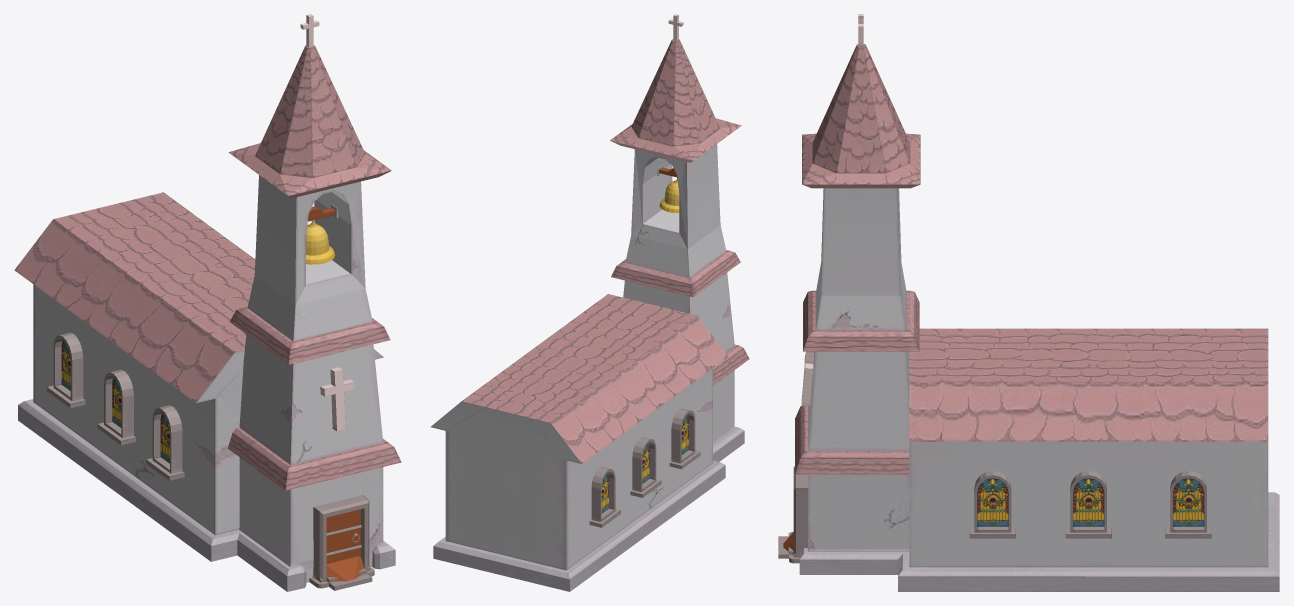
File: church.glb
3 views of the same model, side by side, from view 1: azimuth 30°, elevation 25°; view 2: azimuth 150°, elevation 25°; view 3: azimuth 270°, elevation 25° (orthographic). The views are drawn at different scales.
Size of the model in its own units: 38.15 by 105 by 89.15.
Materials: 4 (4 with a texture image).
